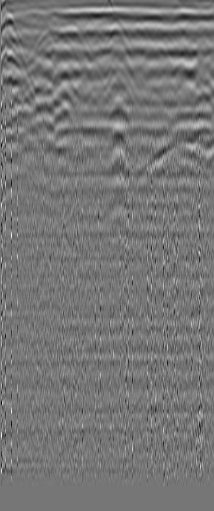오수: (33, 28, 60, 50)
우수: (171, 23, 191, 43)
